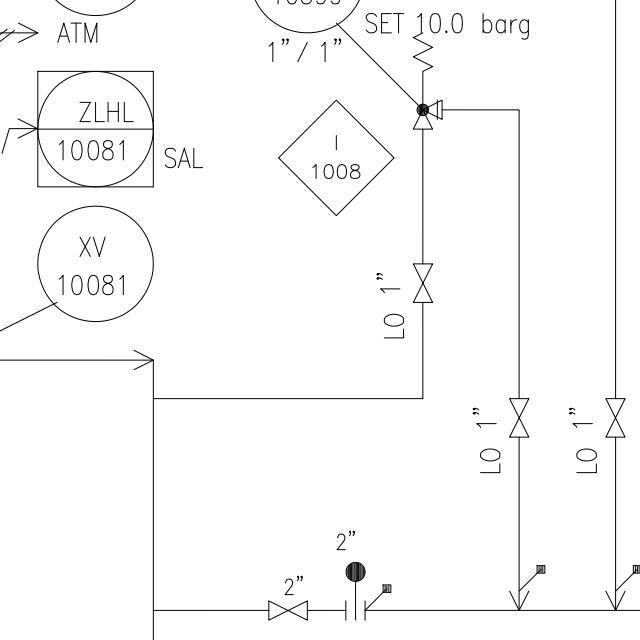GV: (262, 597, 316, 625), (506, 391, 535, 443), (411, 259, 440, 308), (601, 392, 630, 441)
RPV: (411, 27, 447, 135)
